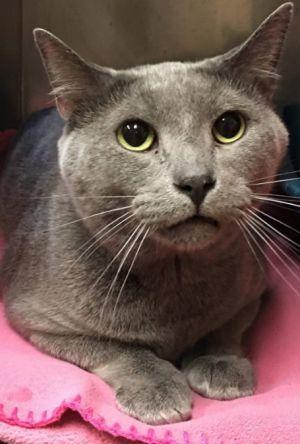rblue: (22, 1, 300, 294)
